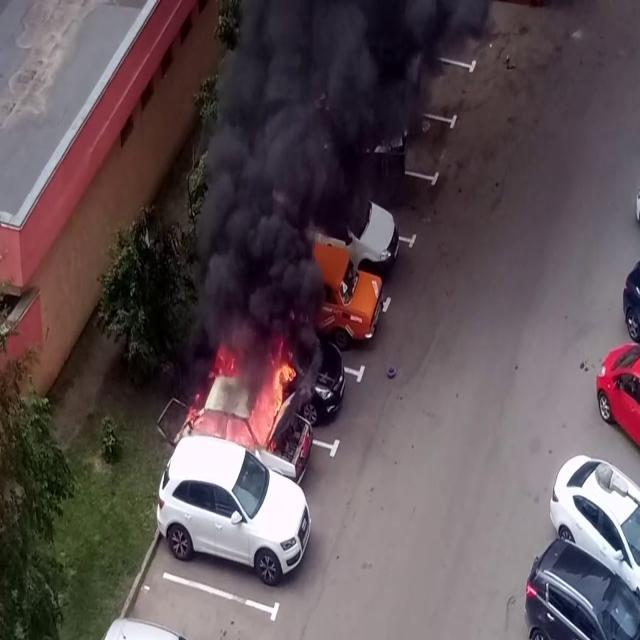Fire: (202, 340, 298, 446)
Smoke: (186, 1, 355, 351)
